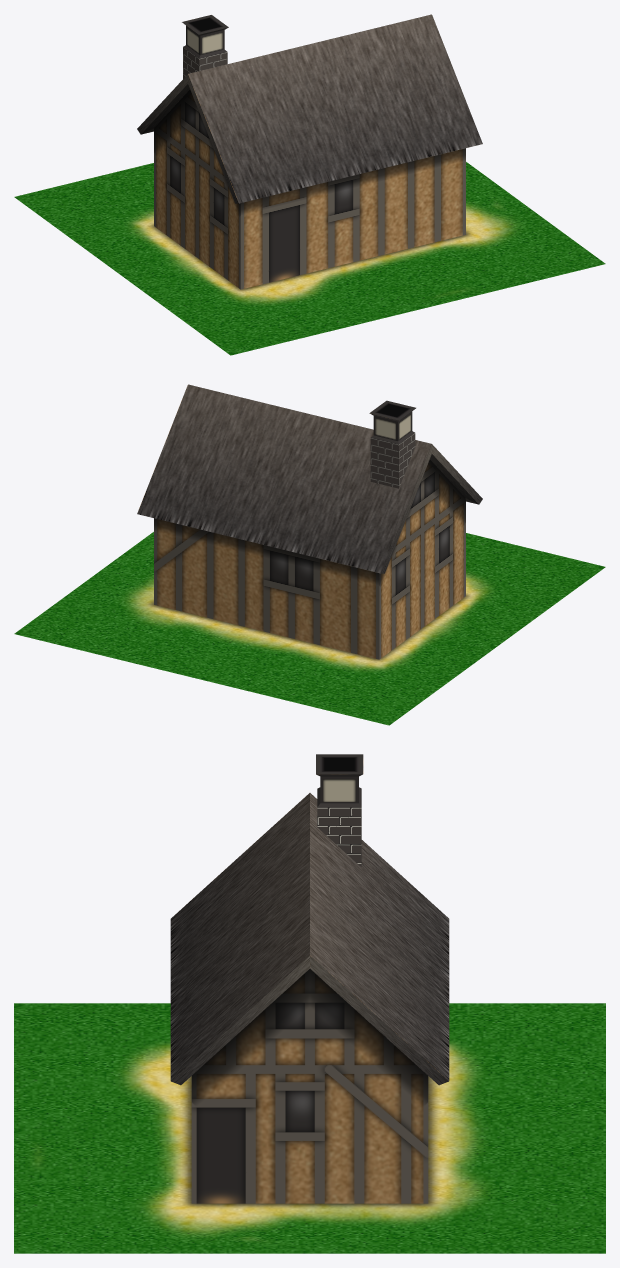
The model's file is house.dae.
3 views of the same model, one above another, from view 1: azimuth 30°, elevation 25°; view 2: azimuth 150°, elevation 25°; view 3: azimuth 270°, elevation 25° (orthographic). The views are drawn at different scales.
Visible parts, largest first — view 1: Box01; view 2: Box01; view 3: Box01.
Boxes of the visible parts, bbox=[...] form: Box01: bbox=[14, 14, 605, 355]; Box01: bbox=[14, 384, 605, 725]; Box01: bbox=[14, 754, 605, 1253].
Size of the model in its own units: 10 by 10 by 5.63.
2 materials, 2 textured.
